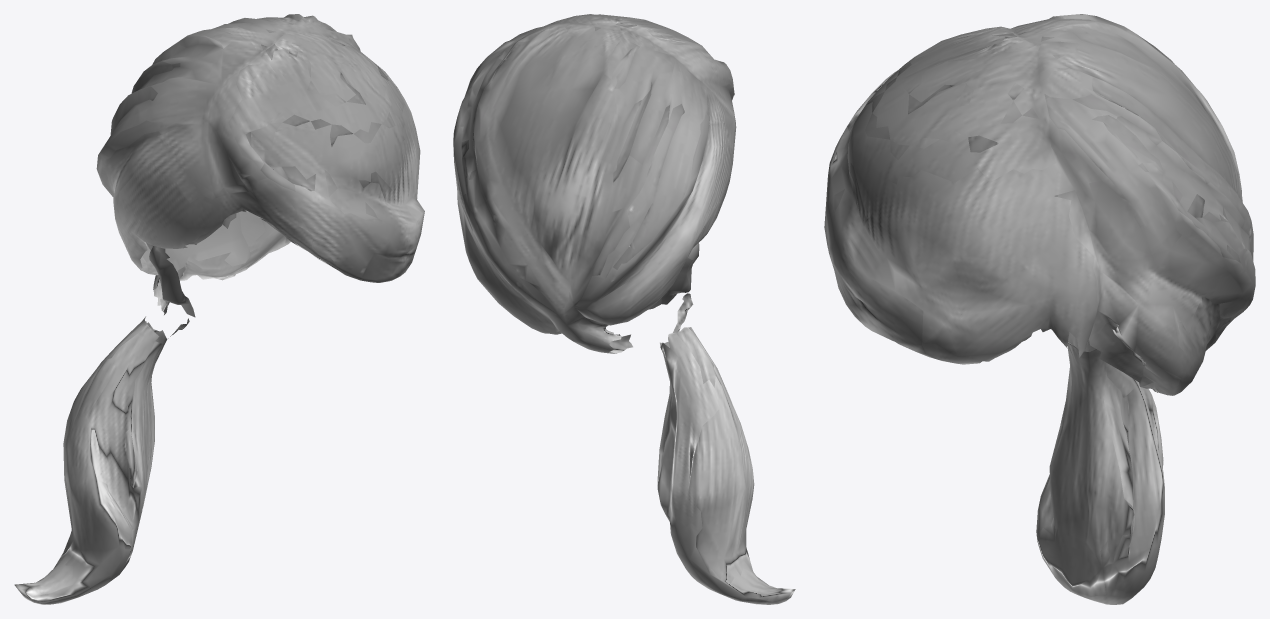
Rendered from ponytail-low.glb.
The picture shows the model from 3 angles, left to right: view 1: azimuth 30°, elevation 25°; view 2: azimuth 150°, elevation 25°; view 3: azimuth 270°, elevation 25°; orthographic projection. The views are drawn at different scales.
Visible parts, largest first — view 1: ponytail-low; view 2: ponytail-low; view 3: ponytail-low.
Boxes of the visible parts, <box> form: ponytail-low: <box>14,14,424,604</box>; ponytail-low: <box>453,14,795,604</box>; ponytail-low: <box>824,14,1255,604</box>.
Bounding box in the file's own units: 0.2837 × 0.4096 × 0.2392.
1 material, 1 textured.
